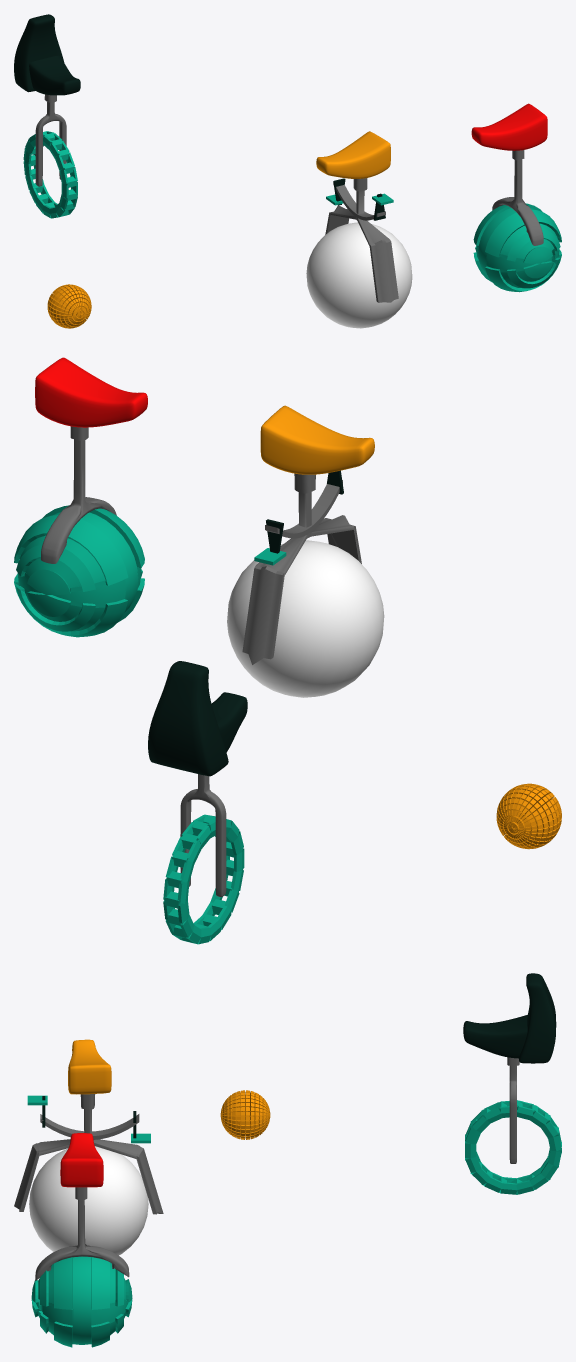
File: Monociclos.fbx
The picture shows the model from 3 angles, top to bottom: view 1: azimuth 30°, elevation 25°; view 2: azimuth 150°, elevation 25°; view 3: azimuth 270°, elevation 25°; orthographic projection. The views are drawn at different scales.
Parts seen in each view (by area): view 1: Sphere005, Sphere001, Cylinder013, Sphere035; view 2: Sphere005, Sphere001, Cylinder013, Sphere035; view 3: Sphere005, Sphere001, Cylinder013, Sphere035.
Part boxes in pixels (x1,y1,x2,y2): Sphere005: (306, 131, 412, 328); Sphere001: (471, 103, 561, 292); Cylinder013: (14, 14, 80, 218); Sphere035: (47, 284, 91, 328); Sphere005: (227, 405, 384, 697); Sphere001: (14, 357, 147, 637); Cylinder013: (148, 661, 247, 944); Sphere035: (496, 783, 561, 849); Sphere005: (14, 1039, 163, 1255); Sphere001: (31, 1133, 132, 1347); Cylinder013: (463, 973, 561, 1194); Sphere035: (220, 1090, 270, 1139).
Bounding box in the file's own units: 80.39 × 33.95 × 78.44.
